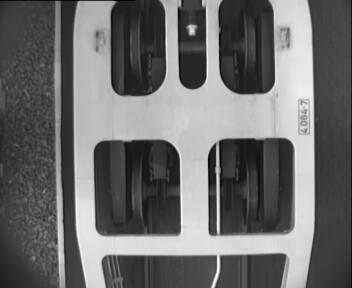twist_lock_2: (100, 1, 284, 107)
